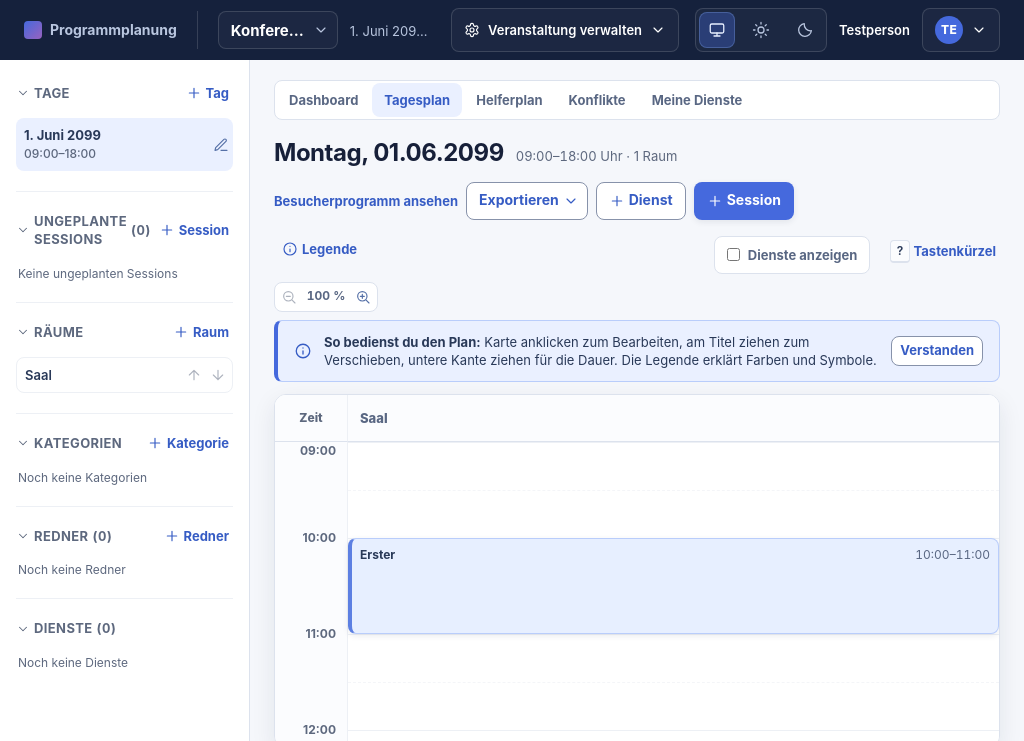
Test case: discards unsaved input and opens the other slot
Click the button with aria-label "Erster bearbeiten": click(378, 555) [360,547,395,563]
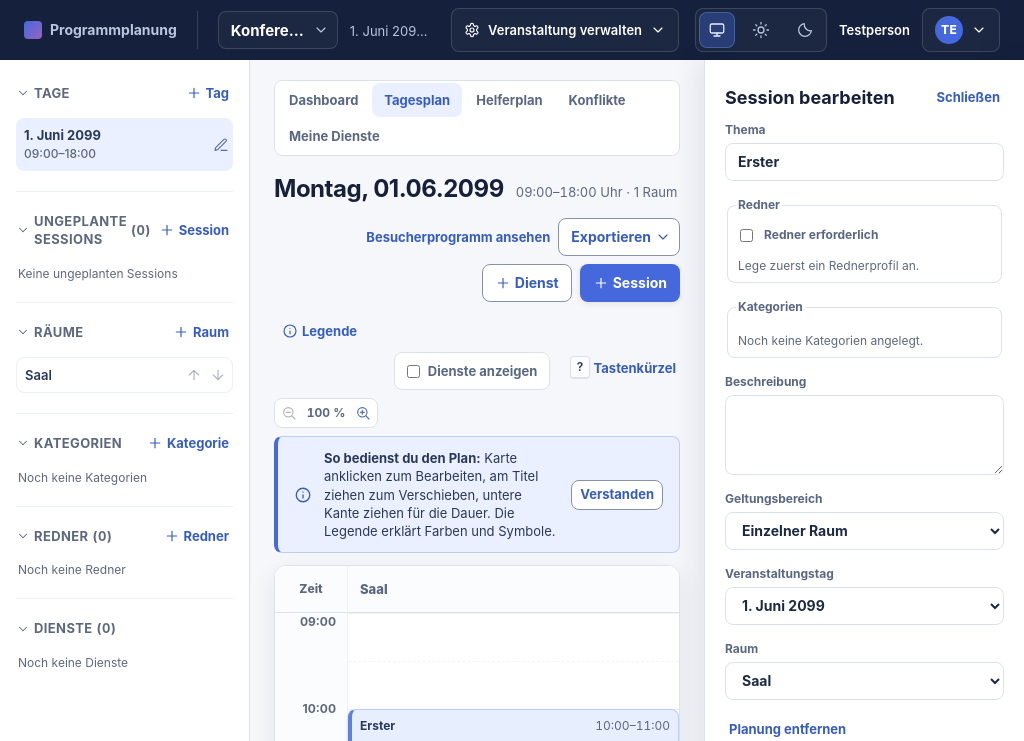
Expected: the text "Ungespeichert" is not shown
In the text box labelled "Beschreibung": (864, 435) [725,395,1004,475], type "Halb fertig"
(page scrolled)
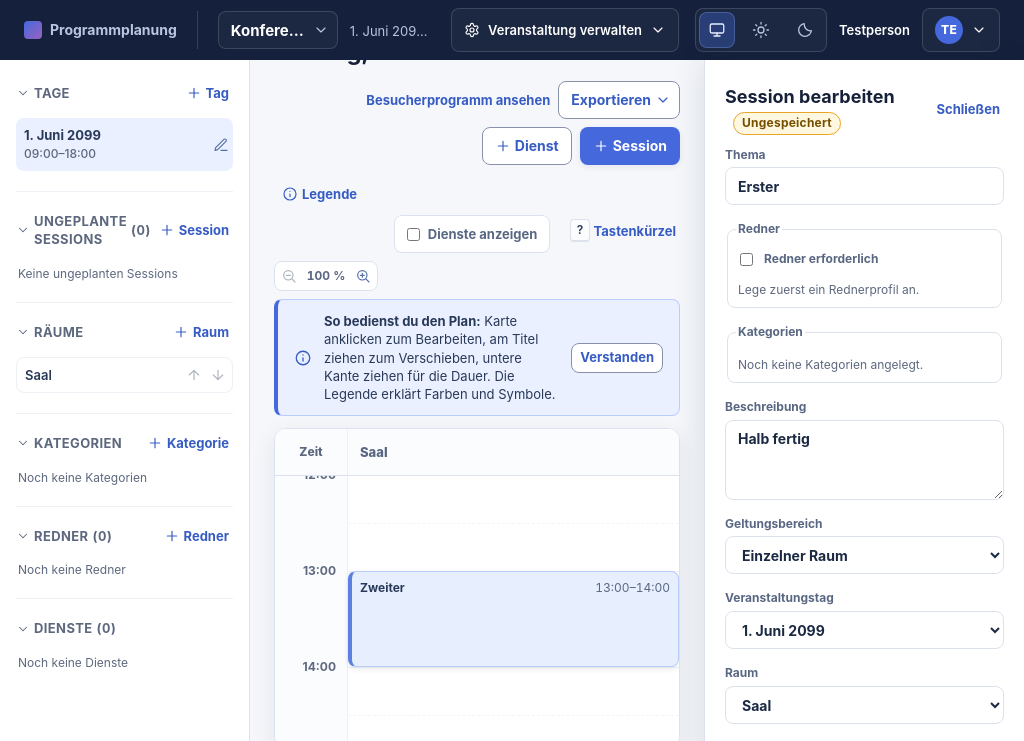
Now the text "Ungespeichert" is shown, box [733,112,841,135]
Click the button with aria-label "Zweiter bearbeiten": click(382, 588) [360,580,405,596]
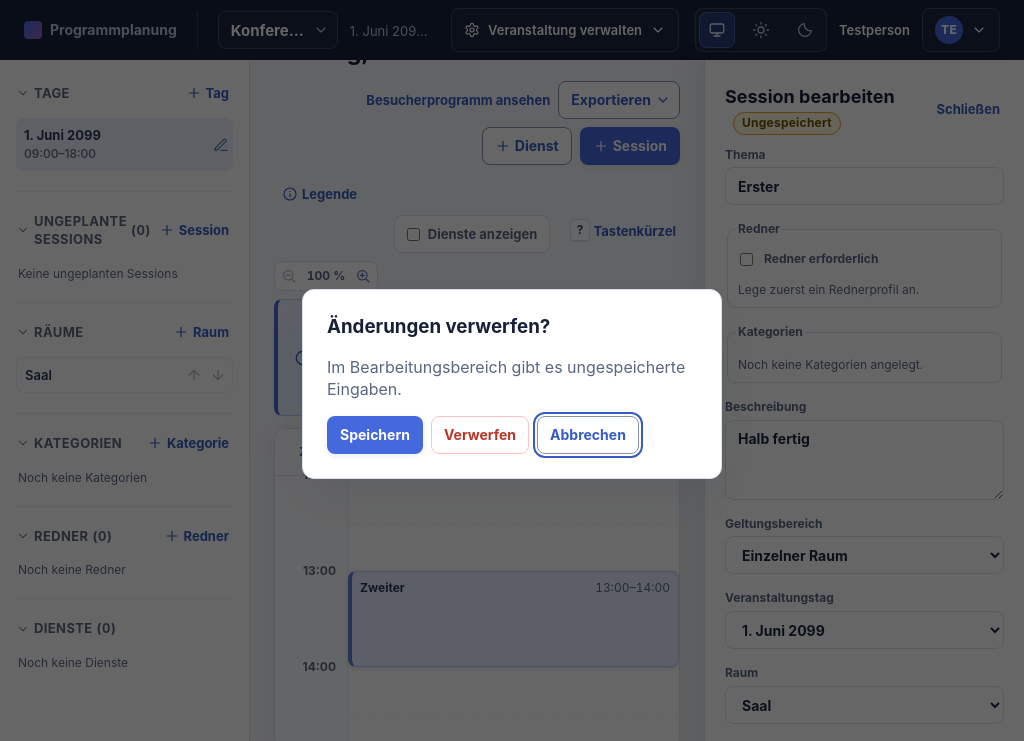
Click the button "Verwerfen": click(480, 436) [431,416,529,454]
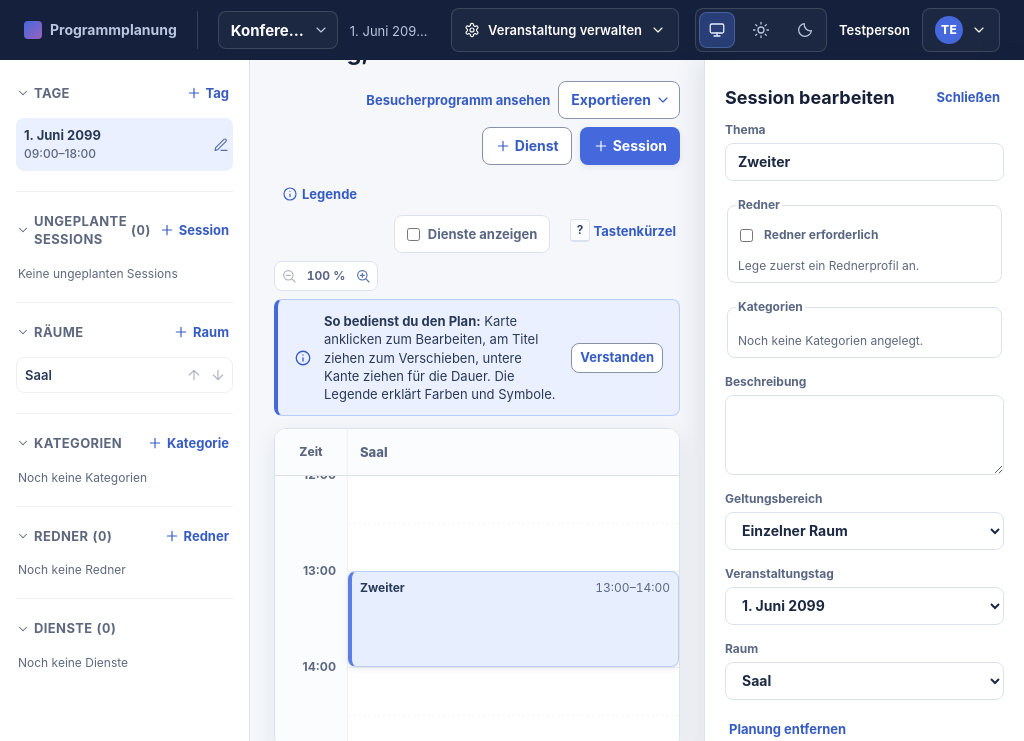
Now the field labelled "Thema" holds "Zweiter", box [725,143,1004,181]
Now the text box labelled "Beschreibung" is empty, box [725,395,1004,475]
